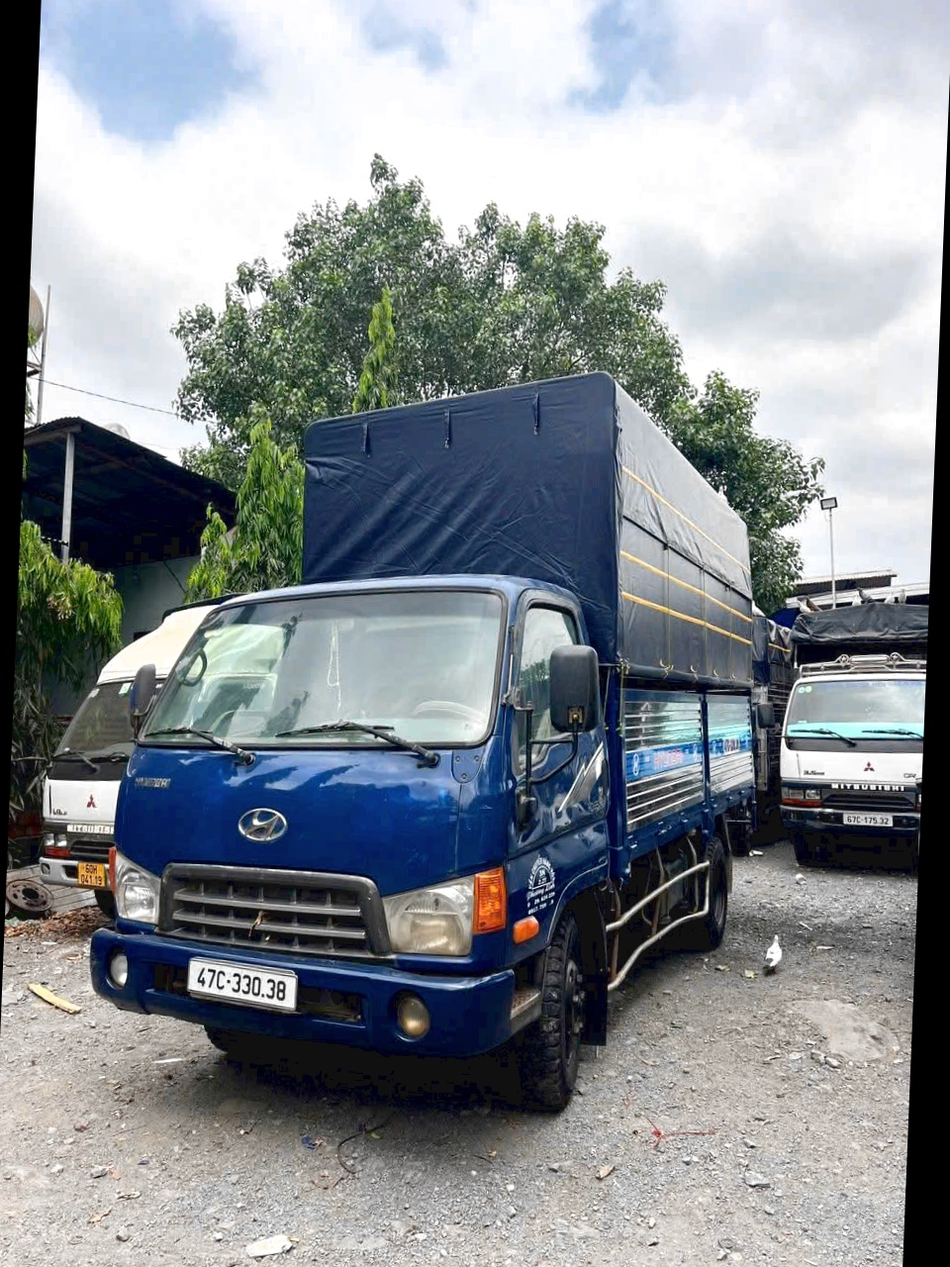Bien-so: (207, 991, 324, 1046), (79, 908, 115, 938), (906, 807, 950, 829)
